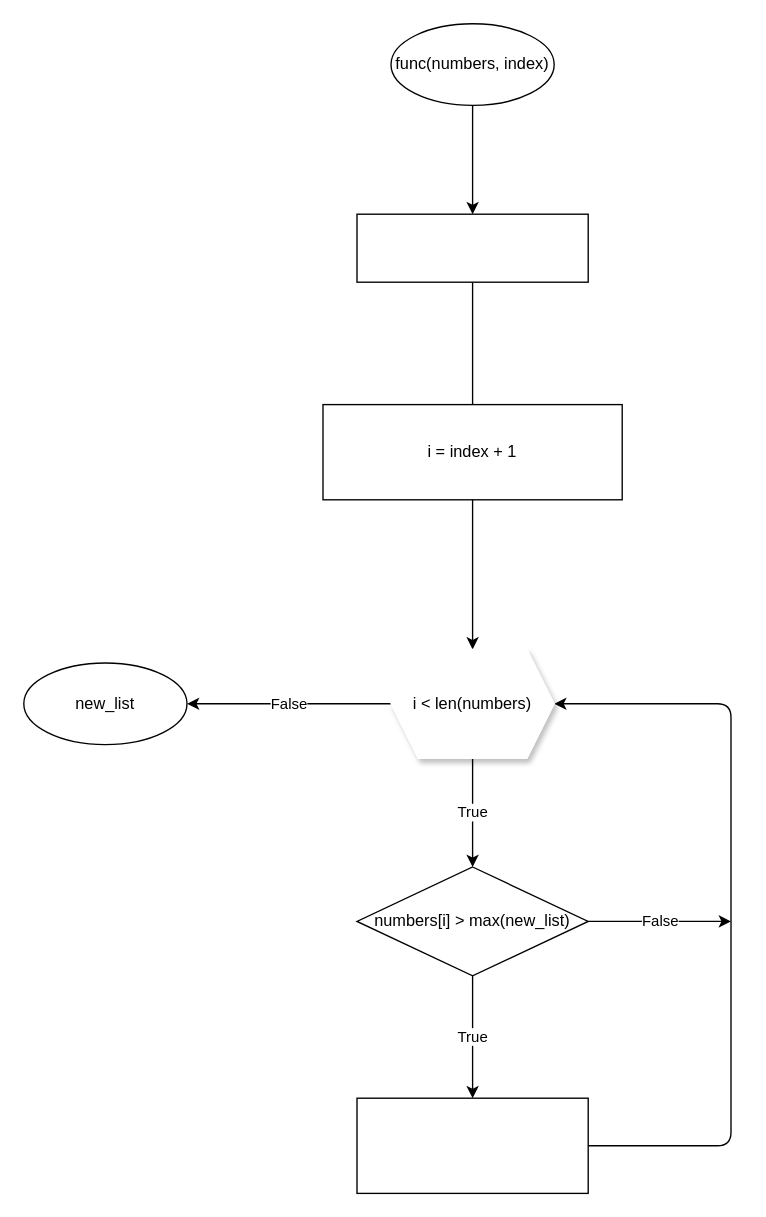
Some shapes in this 766 by 1217 pixel diagram are drawn without their labels. The shapes that lost their labels are listed below. From the top down, each one's centre as x and y in pixels, then its label:
At point 472,247: "new_list = [number[index]".
At point 472,1145: "new_list.append(numbers[i])".
